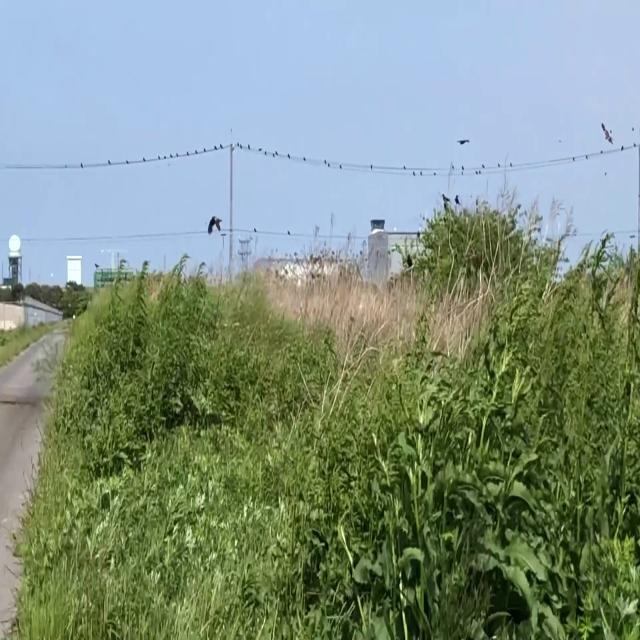bird: (206, 207, 222, 240), (602, 117, 612, 146), (458, 129, 469, 151)
